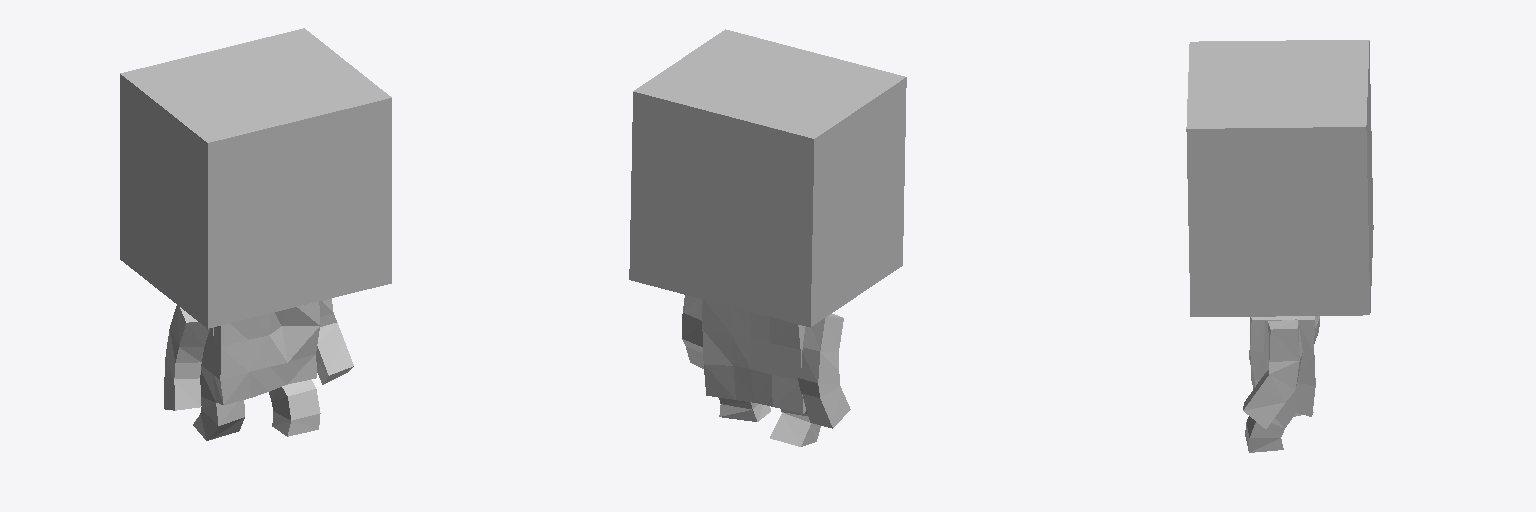
File: boxman-animation-hodba_000004.obj
3 renders of one model, left to right at view 1: azimuth 30°, elevation 25°; view 2: azimuth 150°, elevation 25°; view 3: azimuth 270°, elevation 25°, orthographic.
Parts seen in each view (by area): view 1: Cube; view 2: Cube; view 3: Cube.
Part boxes in pixels (x1,y1,x2,y2): Cube: (120,28,391,440); Cube: (629,29,906,446); Cube: (1186,40,1373,452).
Bounding box in the file's own units: 2.09 × 3.71 × 1.81.